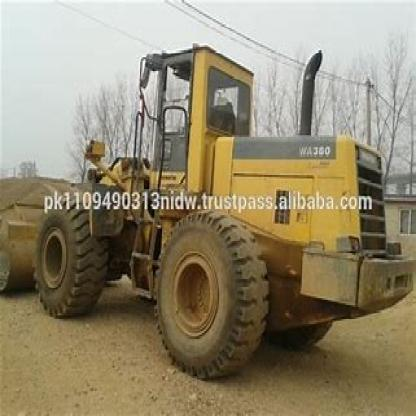bull_dozer/loader/grader: (3, 38, 408, 376)
